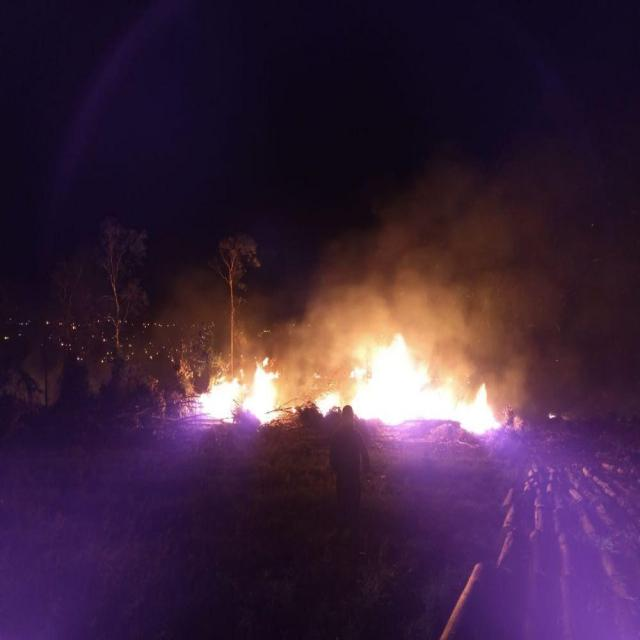Fire: (302, 330, 500, 438), (194, 352, 281, 422)
